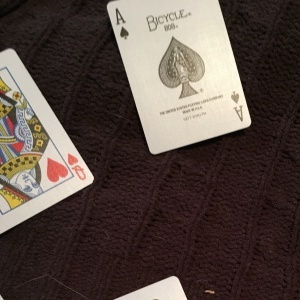card: (105, 3, 258, 156), (1, 43, 97, 236)
